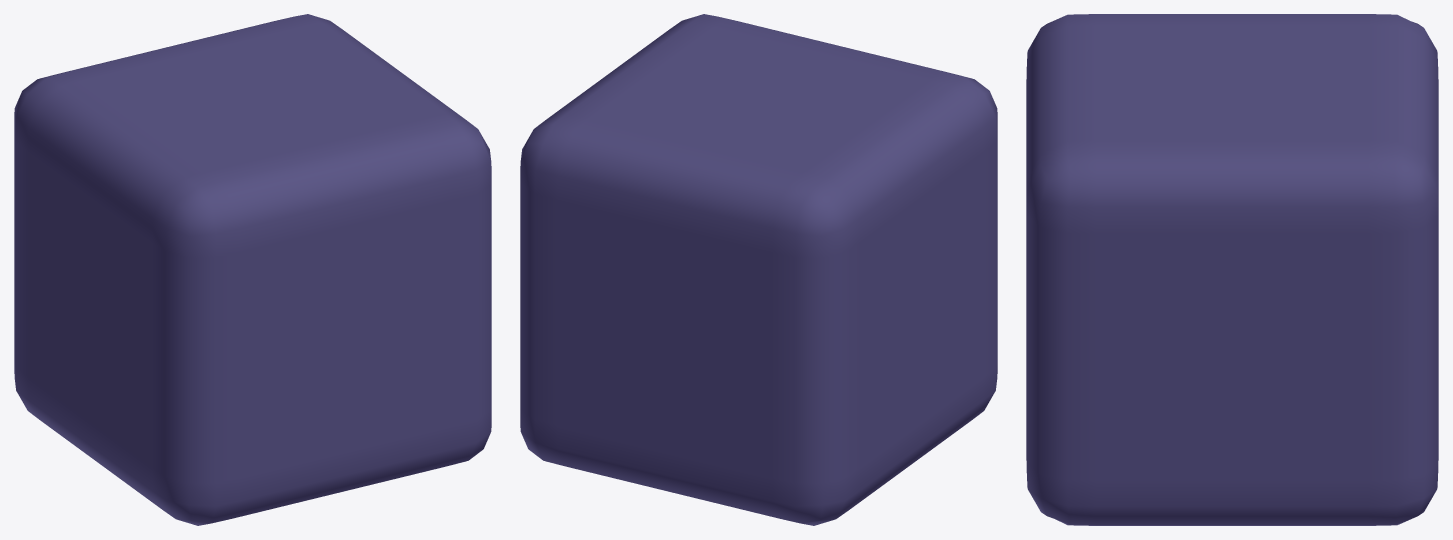
Rendered from SoftBlockDark_v07.glb.
3 views of the same model, side by side, from view 1: azimuth 30°, elevation 25°; view 2: azimuth 150°, elevation 25°; view 3: azimuth 270°, elevation 25° (orthographic). The views are drawn at different scales.
Parts seen in each view (by area): view 1: SoftBlockDark; view 2: SoftBlockDark; view 3: SoftBlockDark.
Boxes of the visible parts, box(x1,y1,x2,y2) form: SoftBlockDark: box(14, 14, 491, 525); SoftBlockDark: box(520, 14, 997, 525); SoftBlockDark: box(1026, 14, 1438, 525).
Size of the model in its own units: 1 by 1 by 1.
